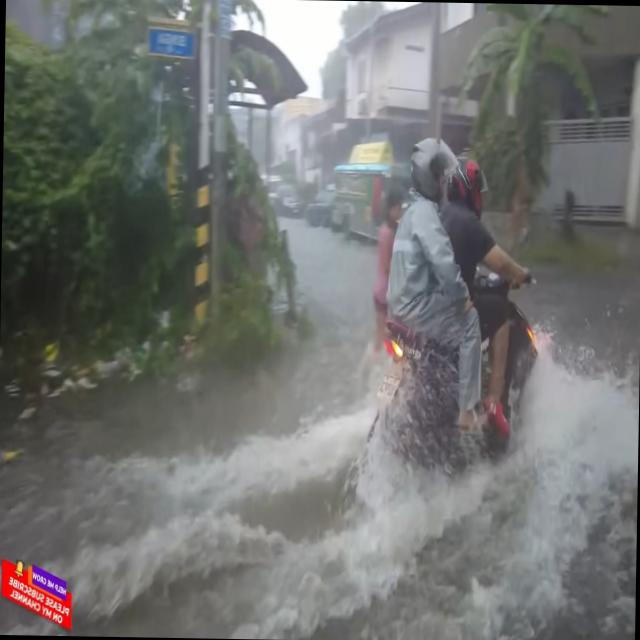full: (446, 155, 494, 217)
half: (404, 125, 462, 208)
